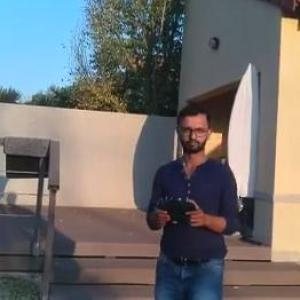follow: (140, 98, 242, 299)
